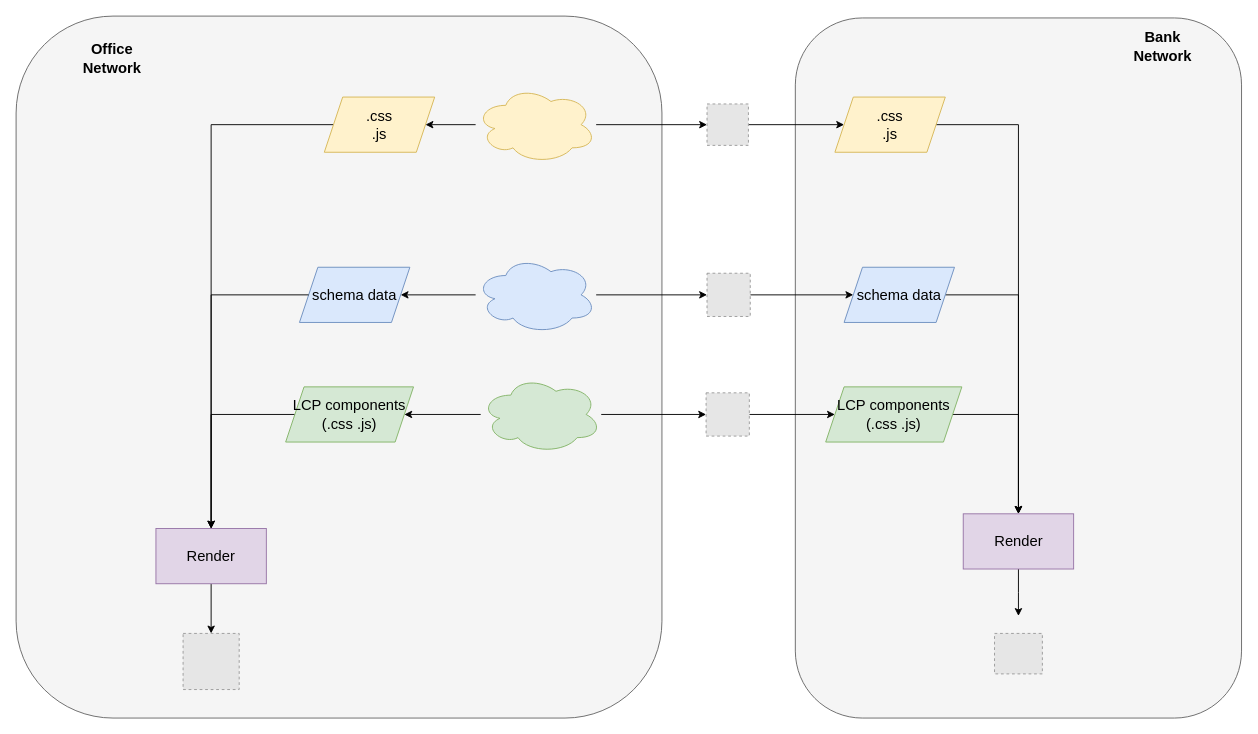
Some shapes in this 1258 by 734 pixel diagram are drawn without their labels. Grey dashed boxes stand in for pictures. Each missing label, with the centre of its shape:
"lc.shopee.io" belongs at pixel 535 294.
"space.shopee.io" belongs at pixel 535 124.
"unpkg.shopee.io" belongs at pixel 540 414.
